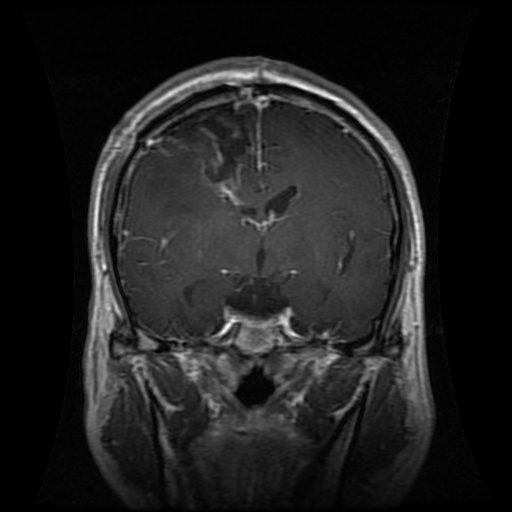glioma: (158, 104, 257, 201)
